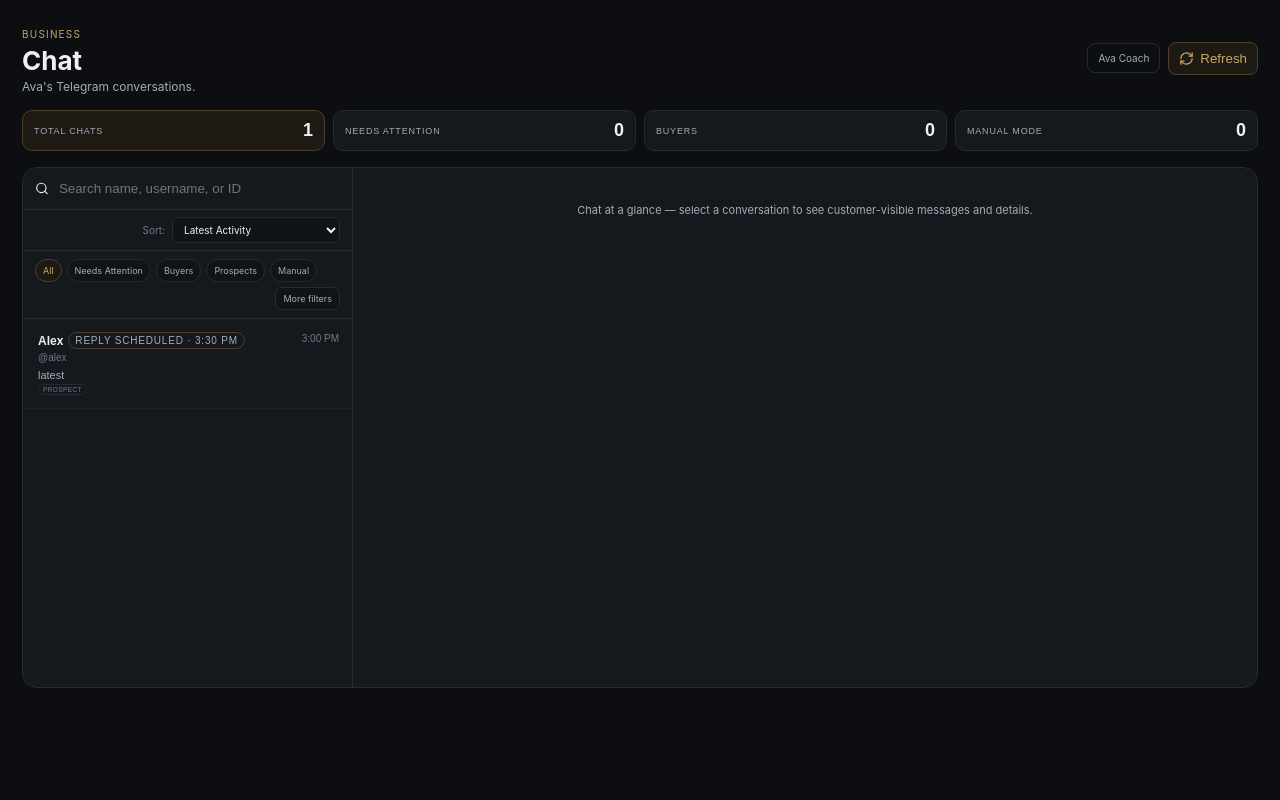
it: keeps the transcript when intelligence fails
The width and height of the screenshot is (1280, 800).
Click the button "Alex REPLY SCHEDULED · 3:30 PM @alex latest PROSPECT 3:00 PM": coordinates (157, 340) 23,319 -> 352,410
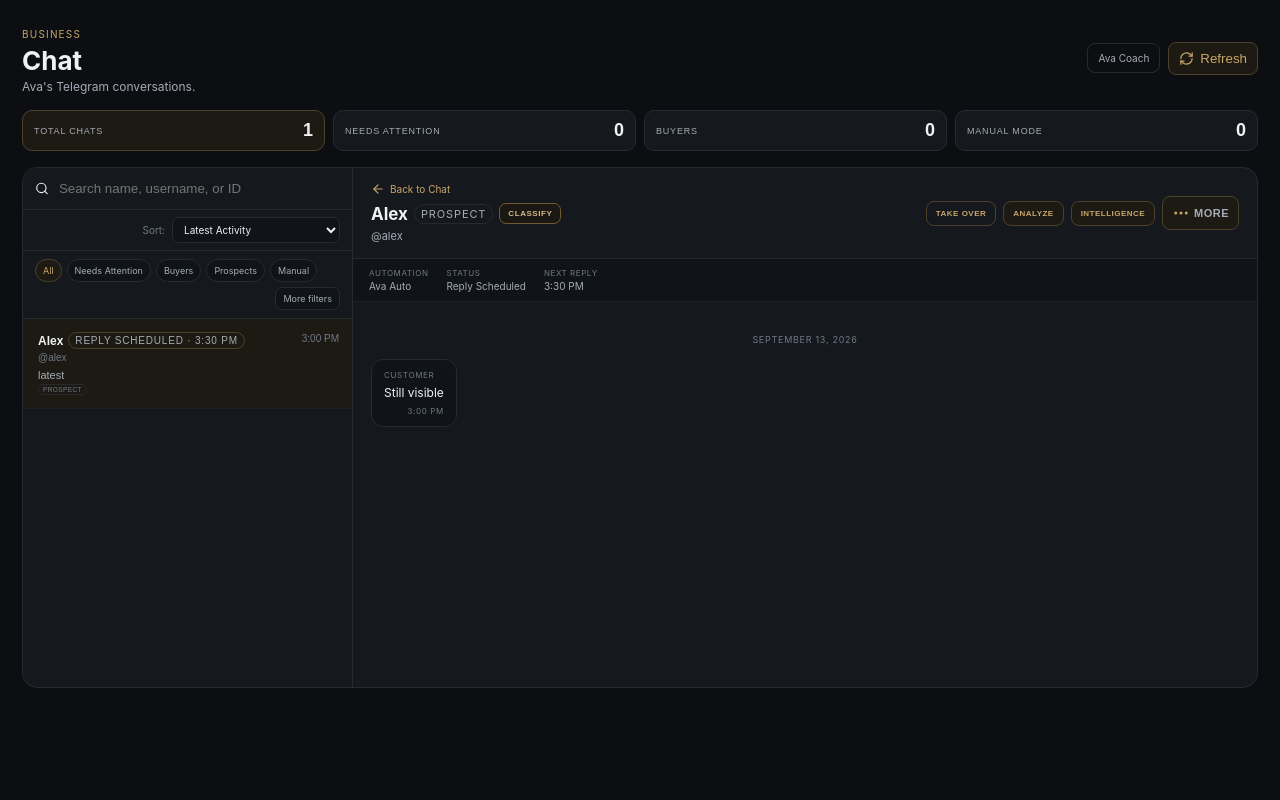
Expected: the text "Still visible" is shown, 384,384 -> 444,402
